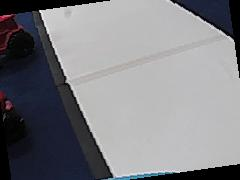Tracktor: (0, 14, 34, 57)
